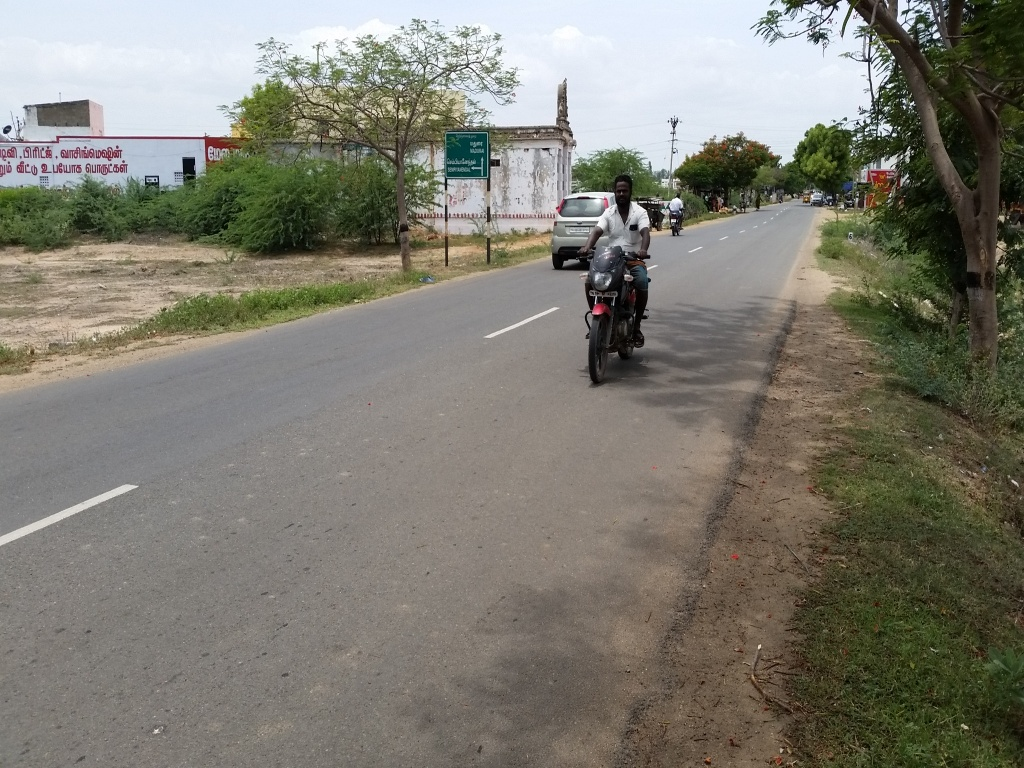biker: (566, 150, 668, 400)
nohelmet: (608, 170, 642, 221)
